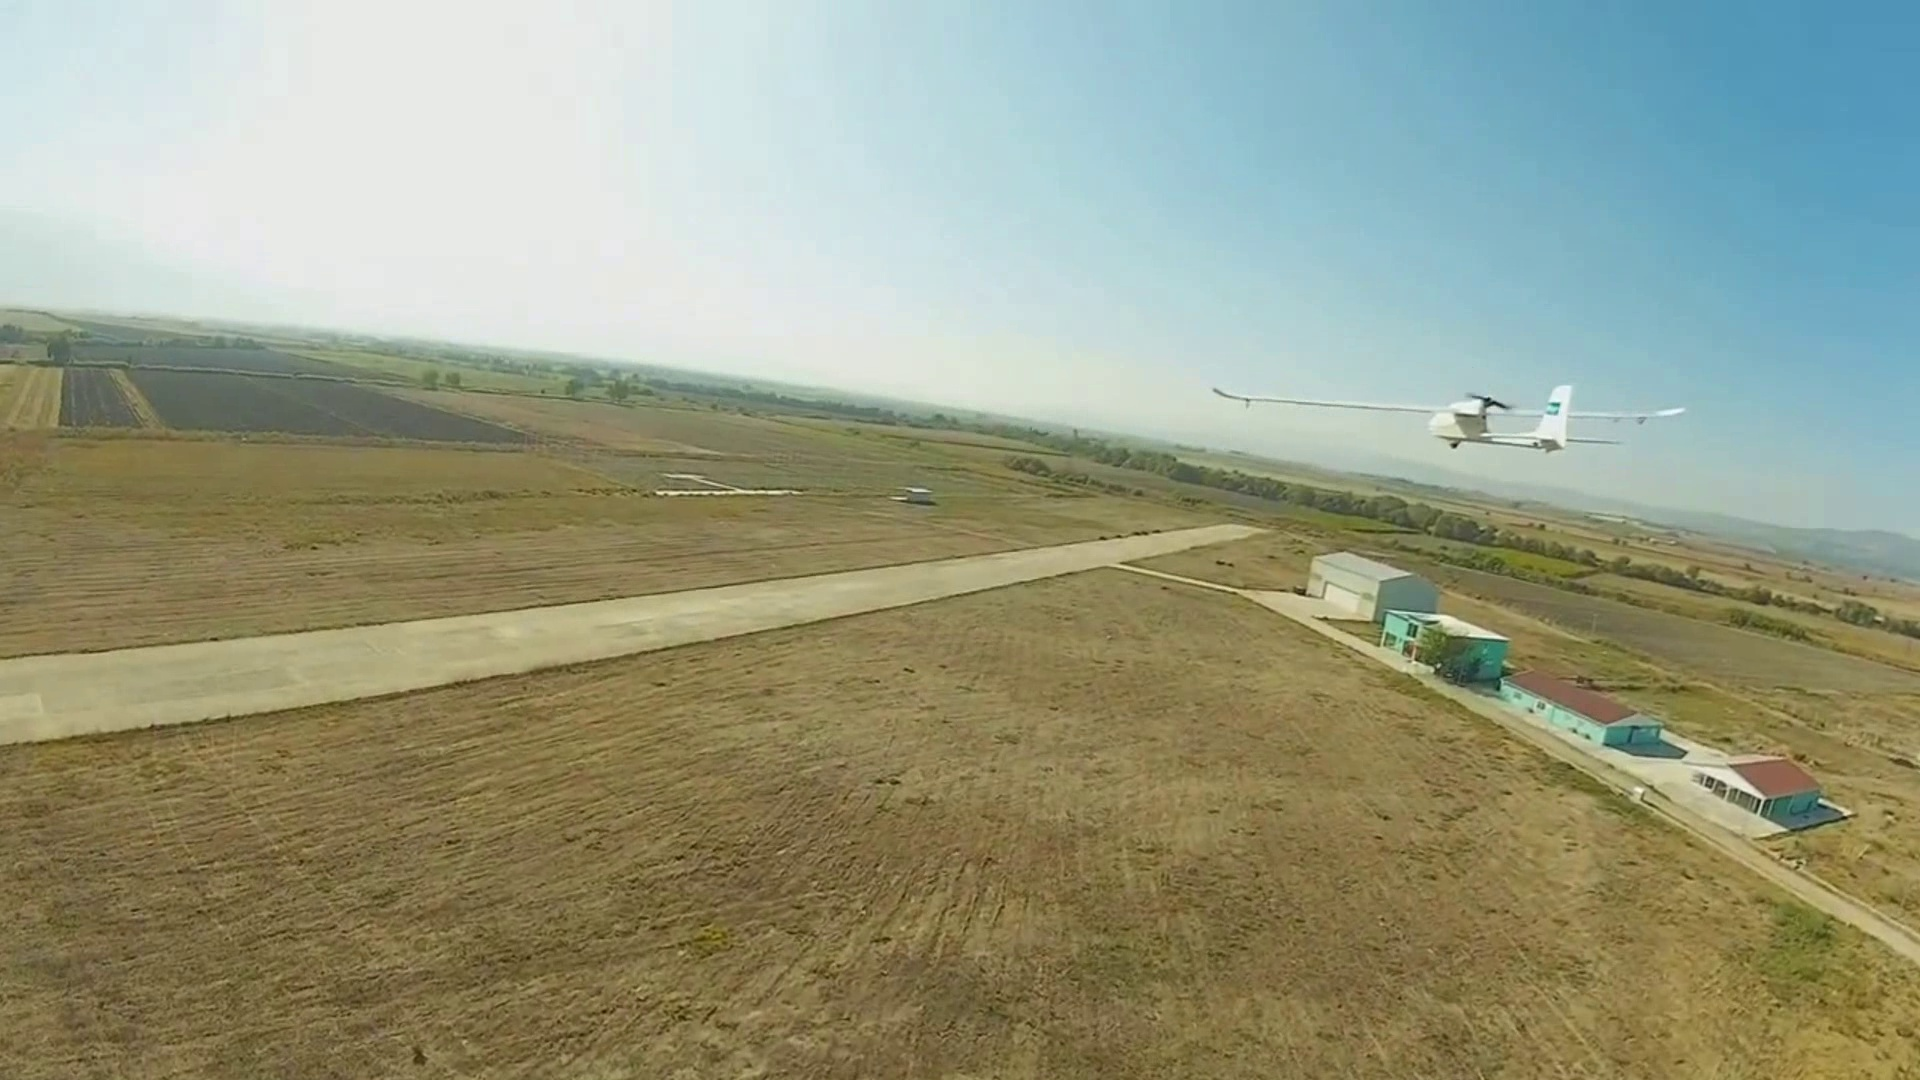airplane: (1203, 375, 1685, 451)
